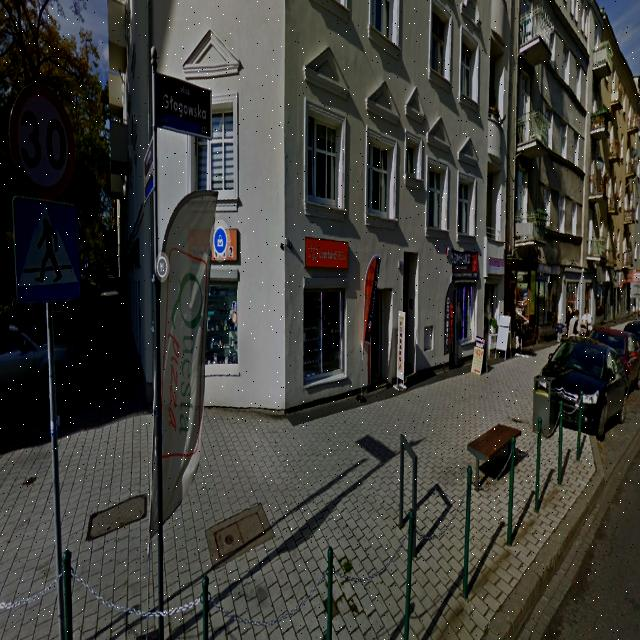Przejscie dla pieszych: (11, 196, 80, 302)
